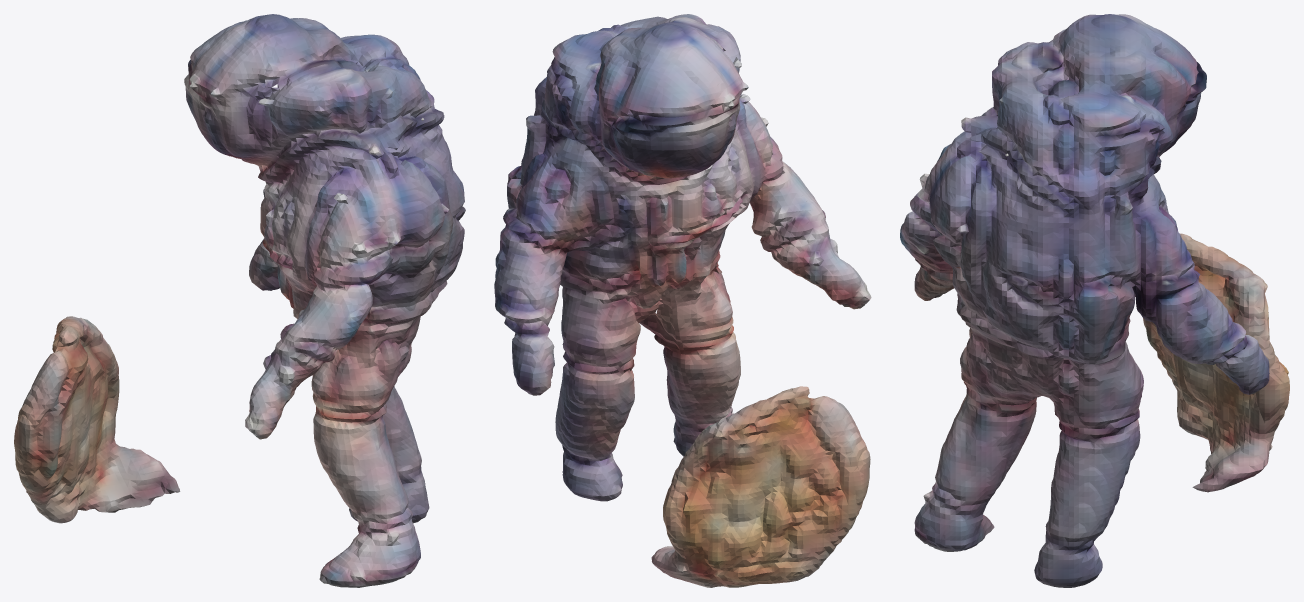
The model's file is Astronaut_3D_Model.glb.
3 views of the same model, side by side, from view 1: azimuth 30°, elevation 25°; view 2: azimuth 150°, elevation 25°; view 3: azimuth 270°, elevation 25° (orthographic). The views are drawn at different scales.
Parts seen in each view (by area): view 1: world; view 2: world; view 3: world.
Part boxes in pixels (left/top/right/bottom): world: left=14, top=14, right=465, bottom=587; world: left=494, top=14, right=871, bottom=587; world: left=900, top=14, right=1289, bottom=587.
Bounding box in the file's own units: 0.6127 × 0.7549 × 0.5166.
